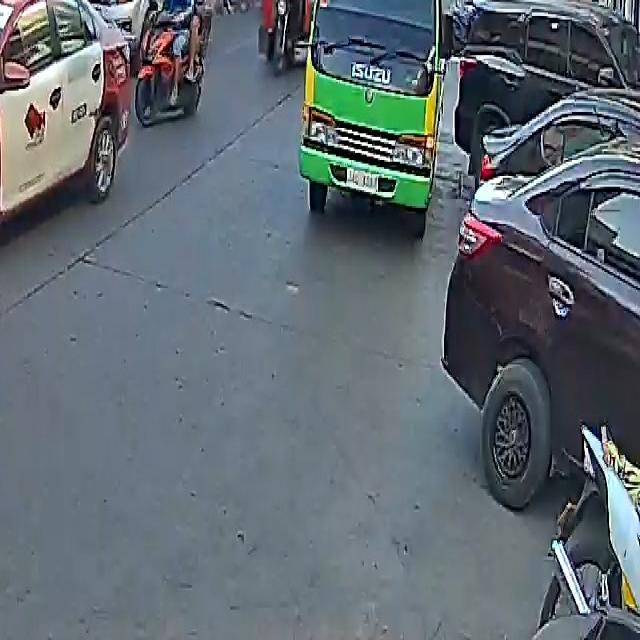car: (443, 77, 640, 526), (0, 0, 127, 279), (453, 0, 639, 183), (69, 0, 199, 25)
